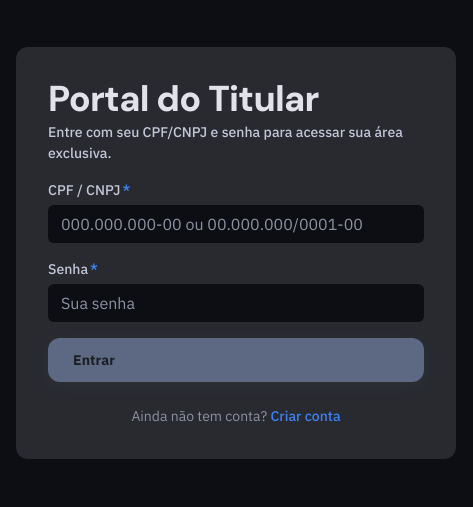
PortalLoginPage › displays error message on login failure
This screenshot has width=473, height=507.
In the field with placeholder "000.000.000-00 ou 00.000.000/0001-00": (236, 224) [48,205,424,243], type "000.000.000-00"
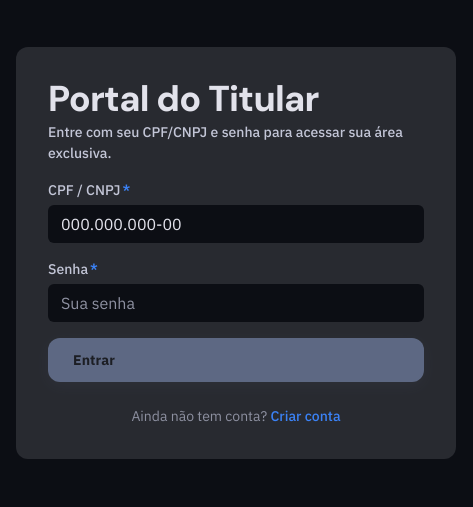
In the password field with placeholder "Sua senha": (236, 303) [48,284,424,322], type "errada"
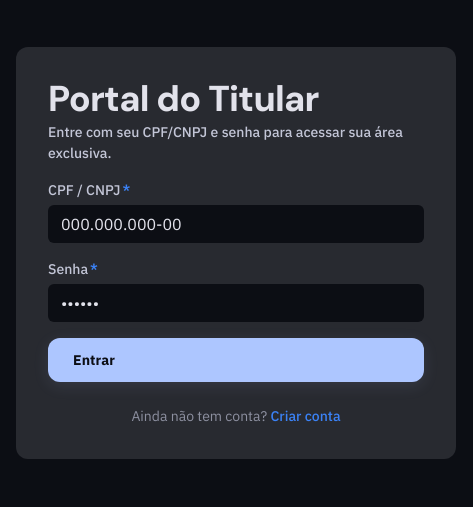
Click the button "Entrar": (94, 360) [48,338,424,382]
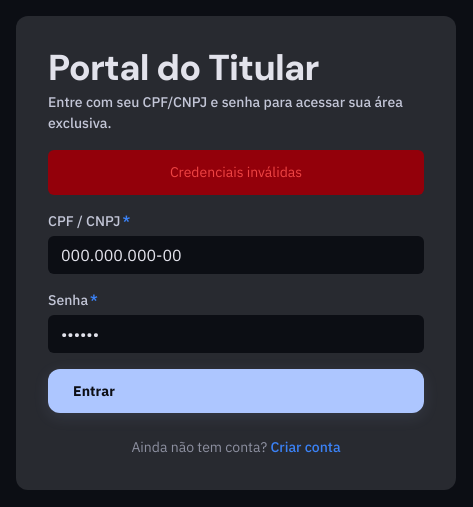
Expected: the message reads "Credenciais inválidas", [170,163,302,181]
